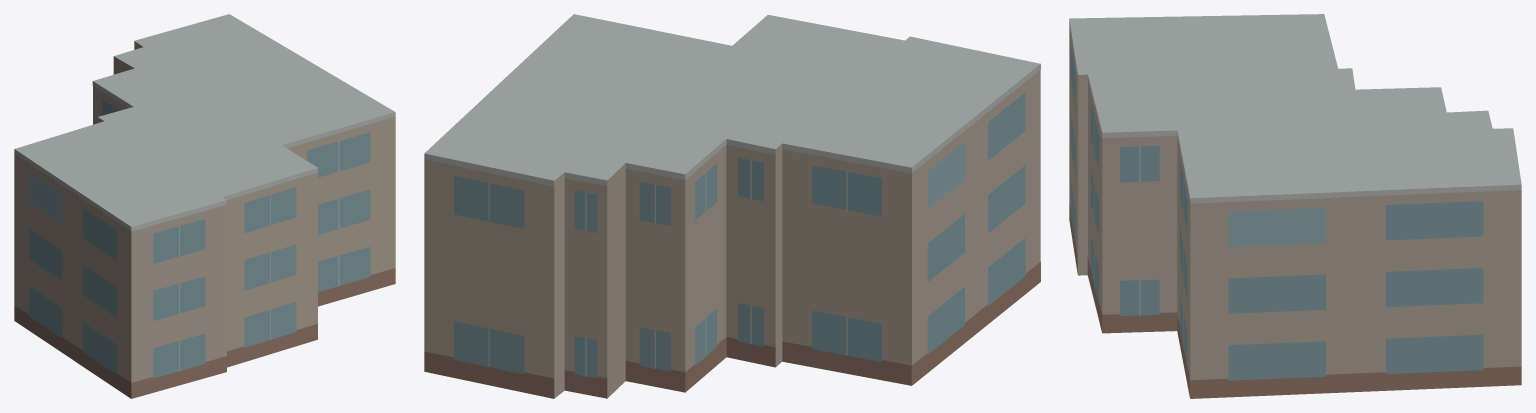
Rendered from survey-upis-32931972.glb.
The picture shows the model from 3 angles, left to right: view 1: azimuth 30°, elevation 25°; view 2: azimuth 150°, elevation 25°; view 3: azimuth 270°, elevation 25°; orthographic projection. The views are drawn at different scales.
Parts seen in each view (by area): view 1: survey-upis-32931972.tmp; view 2: survey-upis-32931972.tmp; view 3: survey-upis-32931972.tmp.
Boxes of the visible parts, x1,y1,x2,y2 form: survey-upis-32931972.tmp: (14,14,395,398); survey-upis-32931972.tmp: (424,14,1040,398); survey-upis-32931972.tmp: (1069,14,1521,398).
Size of the model in its own units: 18.04 by 9.15 by 18.71.
